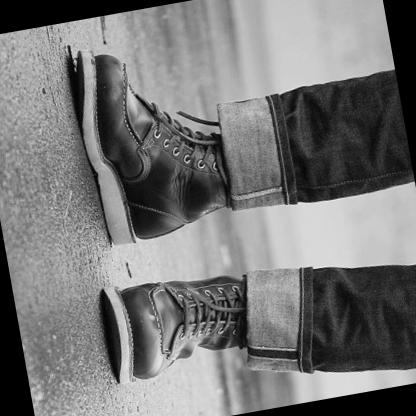ankle: (220, 280, 229, 288), (204, 194, 211, 203)
heel: (115, 228, 125, 239), (117, 289, 119, 292)
left_foot: (100, 265, 257, 386)
pinky: (139, 365, 152, 376), (108, 62, 114, 71)
right_foot: (70, 30, 235, 252)
toe: (134, 295, 143, 305), (108, 95, 115, 104)
